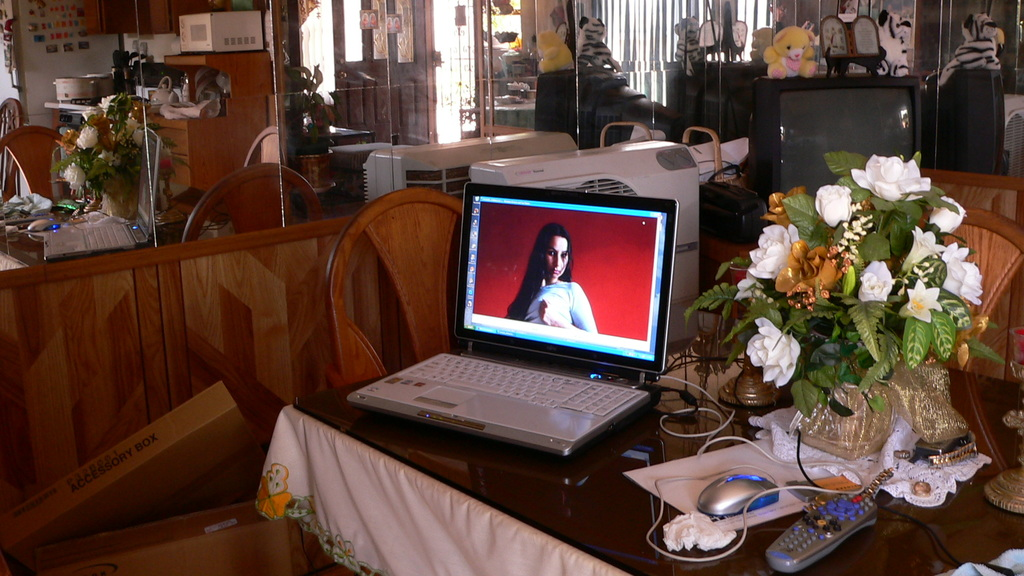Table: (288, 388, 1023, 575)
